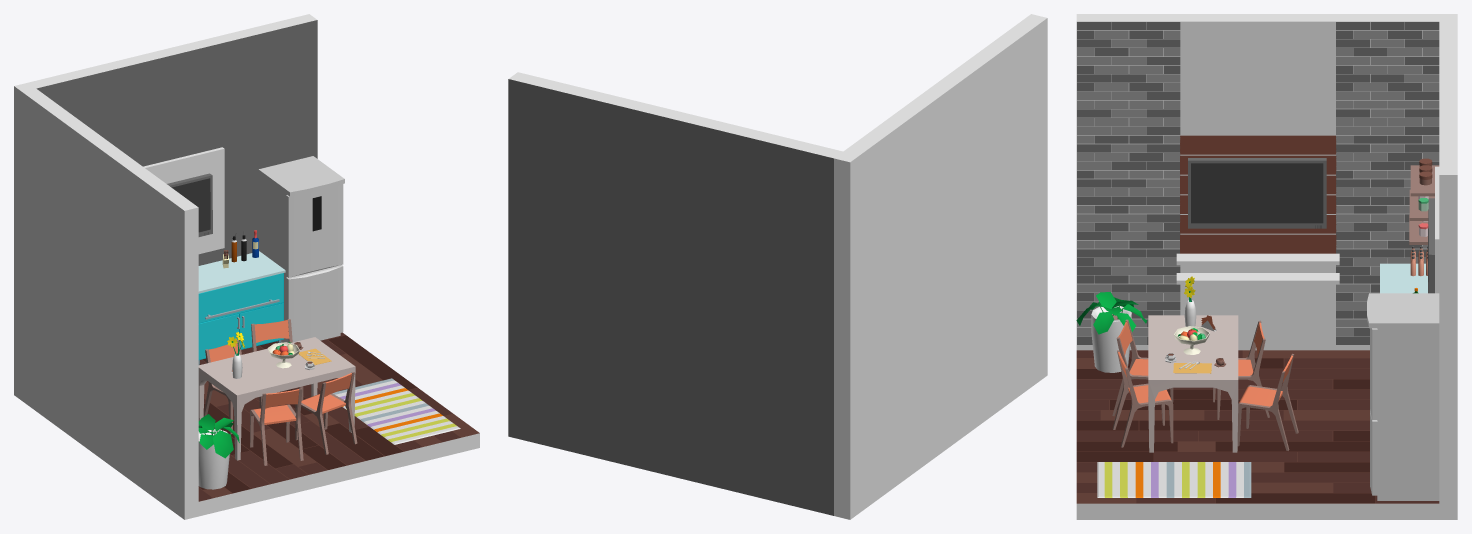
Rendered from room_22.glb.
3 views of the same model, side by side, from view 1: azimuth 30°, elevation 25°; view 2: azimuth 150°, elevation 25°; view 3: azimuth 270°, elevation 25° (orthographic). The views are drawn at different scales.
Visible parts, largest first — view 1: Walls_006.032, Walls_046.025, kitchen_item_019.001, floor_016.003, kitchen_item_049.001, kitchen_table_004.002, Walls_056.006, carpet_002.003, Walls_003.069, flower_001.001, kitchen_chair_006.004, kitchen_chair_006.003 (+4 smaller); view 2: Walls_046.025, Walls_006.032; view 3: Walls_006.032, floor_016.003, wall_021.002, wall_021.001, kitchen_item_019.001, electronics_034.004, Walls_046.025, Walls_056.006, wall_006.002, kitchen_table_004.002, carpet_002.003, flower_001.001 (+12 smaller).
Boxes of the visible parts, bbox=[...] form: Walls_006.032: bbox=[14, 82, 198, 519]; Walls_046.025: bbox=[28, 14, 317, 265]; kitchen_item_019.001: bbox=[258, 156, 344, 342]; floor_016.003: bbox=[198, 332, 479, 501]; kitchen_item_049.001: bbox=[198, 251, 285, 365]; kitchen_table_004.002: bbox=[198, 337, 355, 460]; Walls_056.006: bbox=[198, 335, 479, 516]; carpet_002.003: bbox=[332, 378, 460, 444]; Walls_003.069: bbox=[143, 147, 224, 254]; flower_001.001: bbox=[198, 414, 239, 489]; kitchen_chair_006.004: bbox=[250, 388, 303, 465]; kitchen_chair_006.003: bbox=[295, 372, 357, 454]; Walls_046.025: bbox=[508, 72, 842, 515]; Walls_006.032: bbox=[834, 14, 1047, 519]; Walls_006.032: bbox=[1076, 14, 1457, 350]; floor_016.003: bbox=[1076, 350, 1439, 503]; wall_021.002: bbox=[1077, 22, 1180, 344]; wall_021.001: bbox=[1336, 22, 1439, 344]; kitchen_item_019.001: bbox=[1367, 293, 1439, 500]; electronics_034.004: bbox=[1188, 158, 1326, 228]; Walls_046.025: bbox=[1439, 21, 1457, 519]; Walls_056.006: bbox=[1076, 350, 1439, 519]; wall_006.002: bbox=[1180, 135, 1336, 253]; kitchen_table_004.002: bbox=[1148, 315, 1238, 452]; carpet_002.003: bbox=[1097, 462, 1251, 497]; flower_001.001: bbox=[1076, 292, 1147, 372].
Bounding box in the file's own units: 4.2 × 4.2 × 4.2.
1 material, 1 textured.
